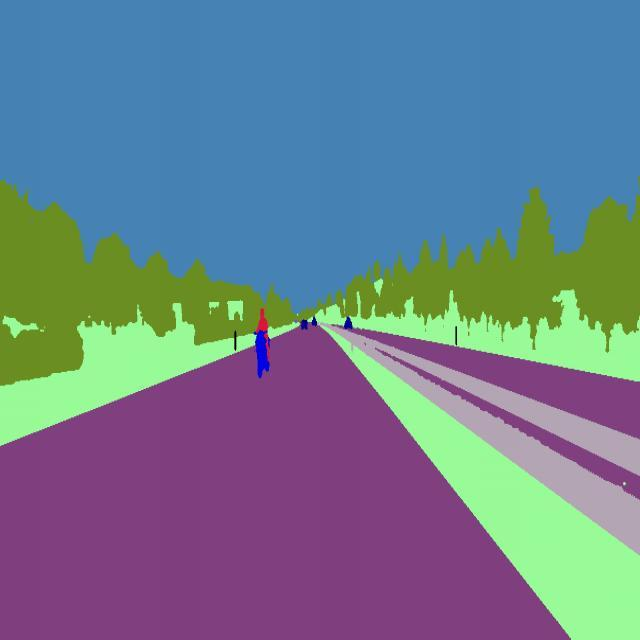safe: (250, 303, 272, 386), (342, 316, 356, 337), (310, 312, 322, 332), (300, 318, 307, 335)
